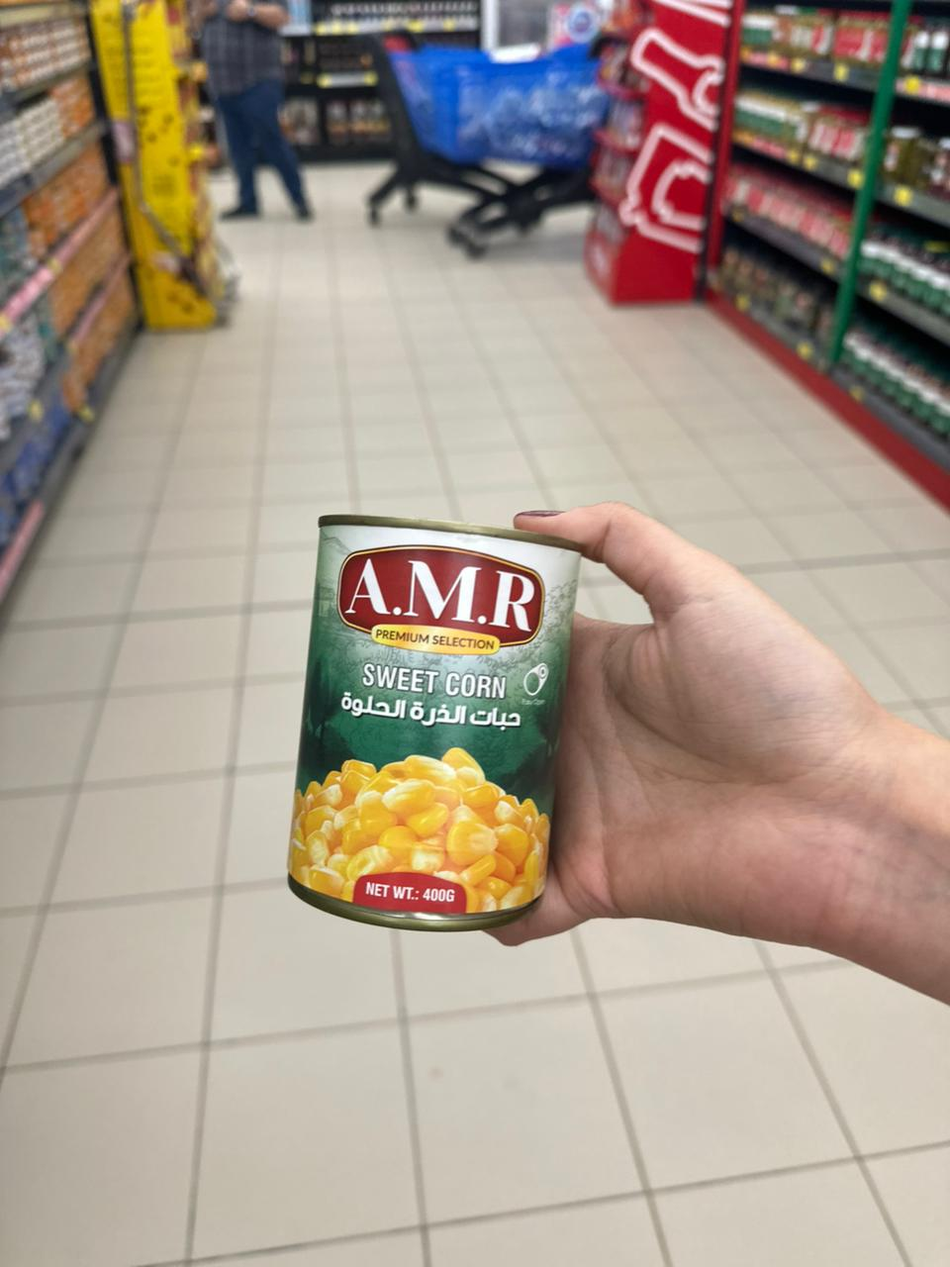corn: (245, 457, 620, 963), (289, 516, 579, 928)
